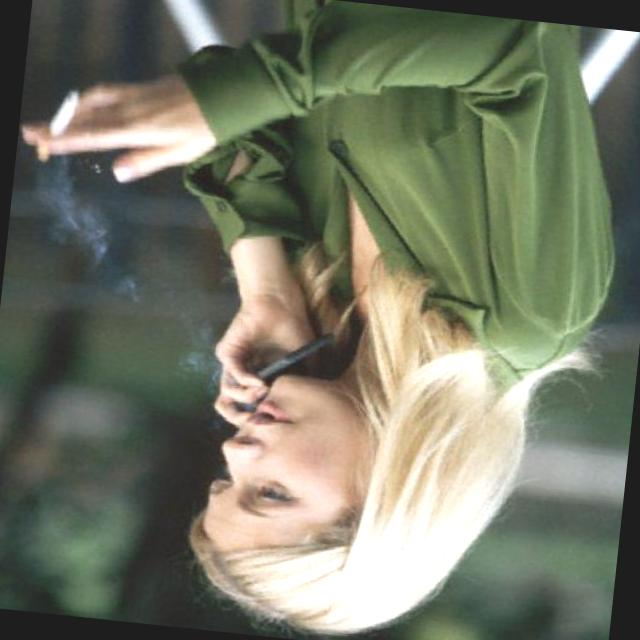smoke: (16, 44, 130, 166)
